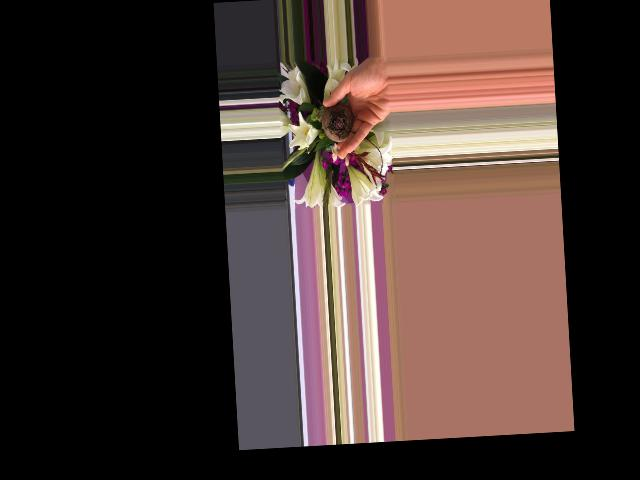beet: (321, 102, 355, 144)
